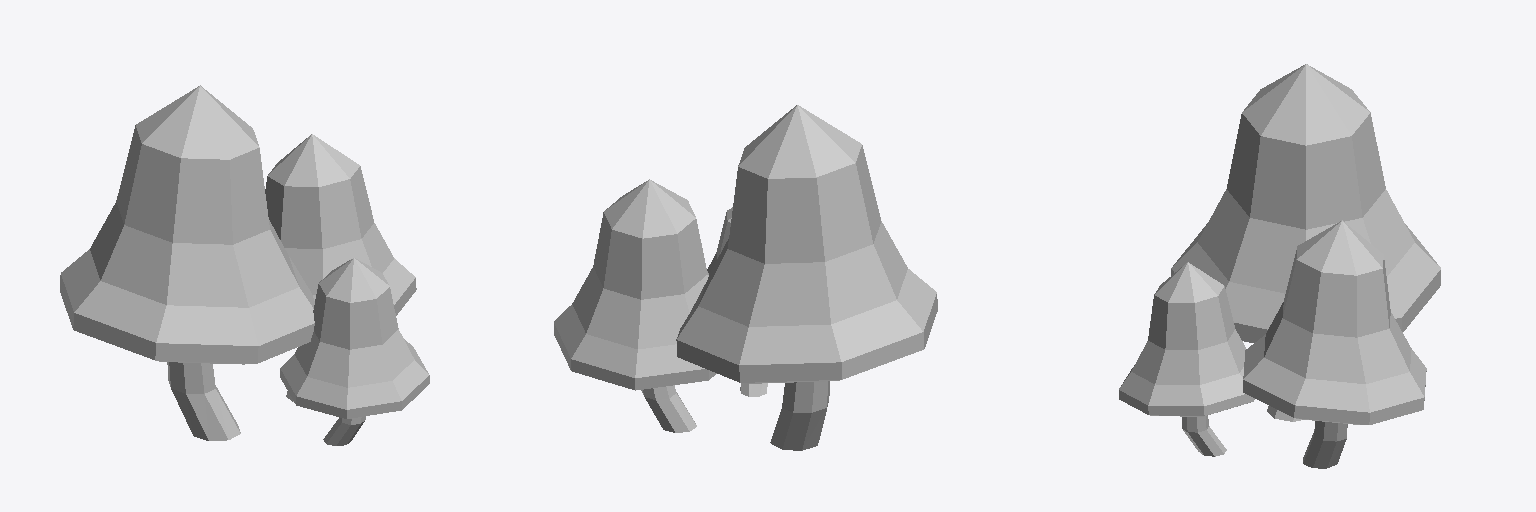
File: mushroom1.obj
3 renders of one model, left to right at view 1: azimuth 30°, elevation 25°; view 2: azimuth 150°, elevation 25°; view 3: azimuth 270°, elevation 25°, orthographic.
Visible parts, largest first — view 1: Mushroom_high_group_yellow_Cylinder.068; view 2: Mushroom_high_group_yellow_Cylinder.068; view 3: Mushroom_high_group_yellow_Cylinder.068.
Boxes of the visible parts, box(x1,y1,x2,y2) form: Mushroom_high_group_yellow_Cylinder.068: box(60, 85, 429, 445); Mushroom_high_group_yellow_Cylinder.068: box(554, 105, 937, 450); Mushroom_high_group_yellow_Cylinder.068: box(1119, 64, 1440, 468).
Bounding box in the file's own units: 4.21 × 4.07 × 3.47.